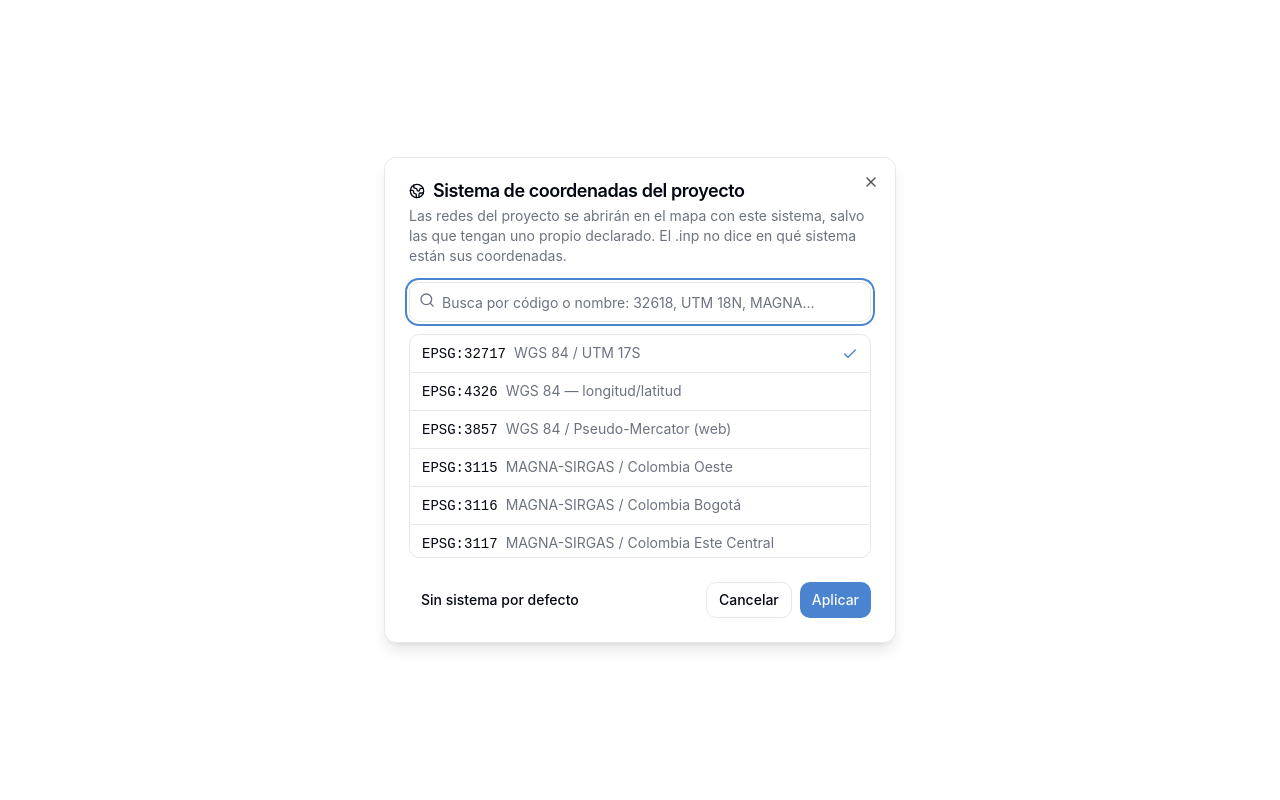
Test: el selector de sistema del proyecto › si guardar falla, enseña el error y no se cierra
This screenshot has width=1280, height=800.
What coordinates should you click on to do the following:
click the button "Aplicar"
I would click on:
 (835, 600)
Its box is [800,582,871,618].
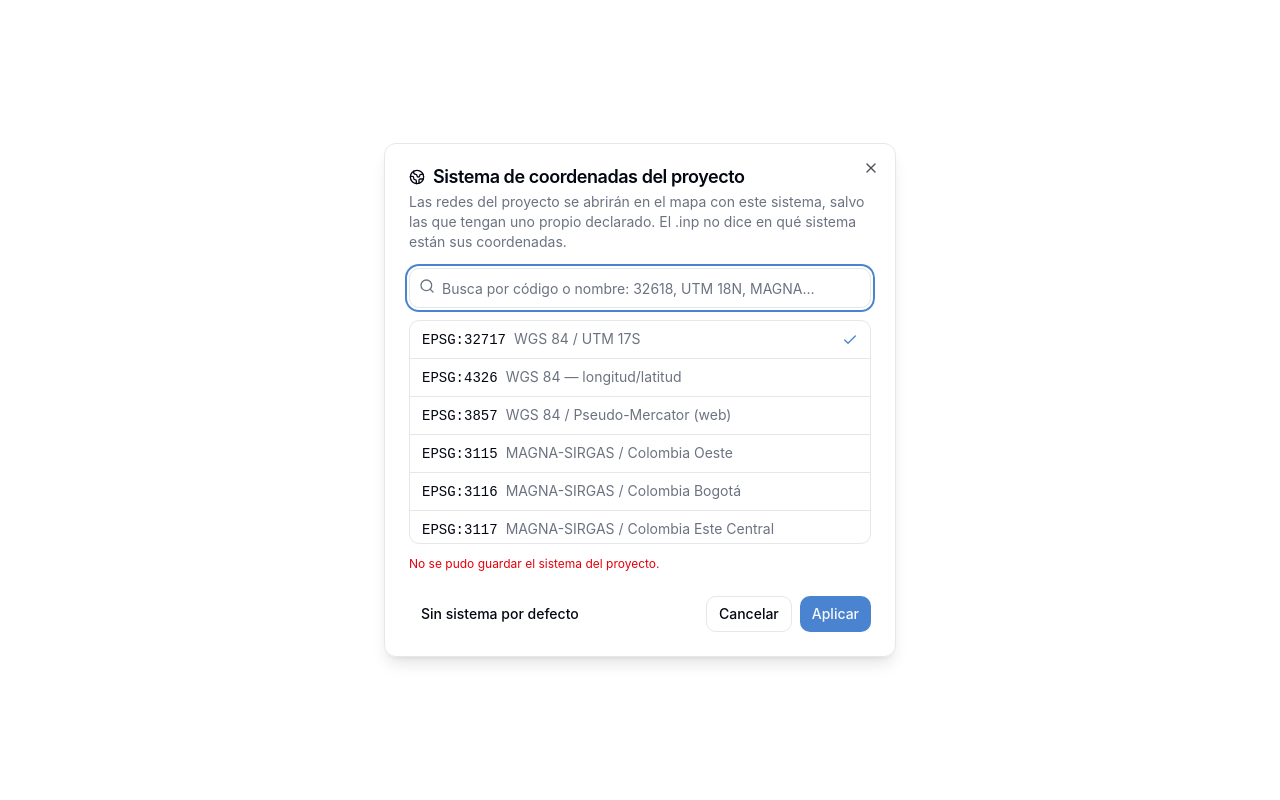
Check: the text "No se pudo guardar el sistema del proyecto." is shown, box [409,556,660,571]
